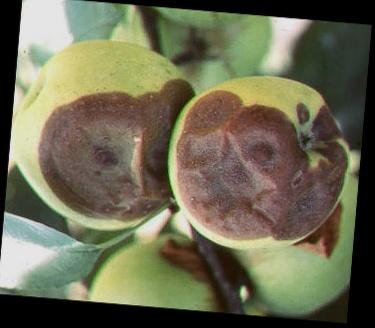rotten apple: (10, 32, 187, 236), (175, 73, 357, 255)
